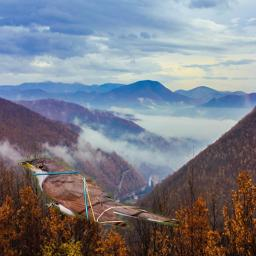Cuckoo: (16, 153, 185, 235)
